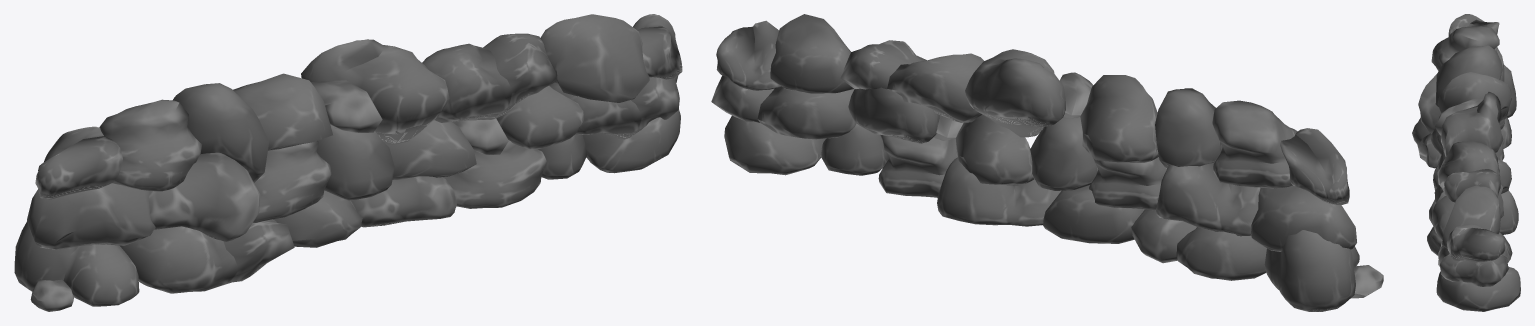
File: rocks gate 4.fbx
3 renders of one model, left to right at view 1: azimuth 30°, elevation 25°; view 2: azimuth 150°, elevation 25°; view 3: azimuth 270°, elevation 25°, orthographic. The views are drawn at different scales.
Visible parts, largest first — view 1: rocks_gate_2; view 2: rocks_gate_2; view 3: rocks_gate_2.
Boxes of the visible parts, x1,y1,x2,y2 form: rocks_gate_2: (14,14,682,311); rocks_gate_2: (711,14,1383,311); rocks_gate_2: (1412,14,1520,311).
Bounding box in the file's own units: 23.98 × 6.08 × 4.96.
